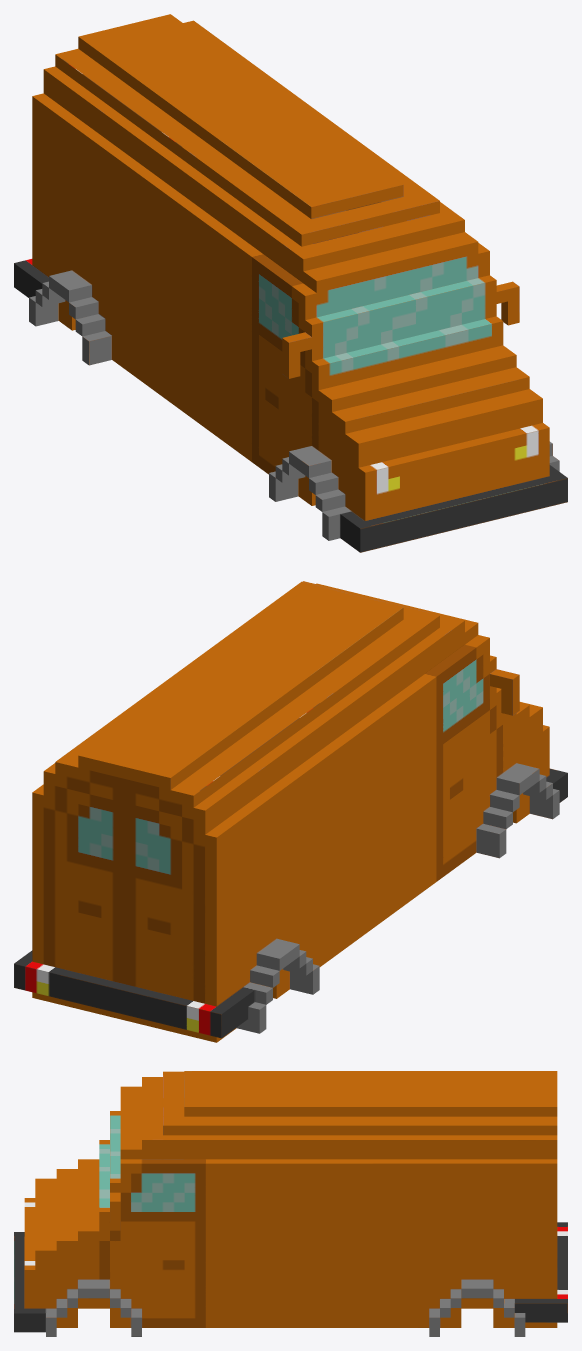
Rendered from Van_3.obj.
3 renders of one model, top to bottom at view 1: azimuth 30°, elevation 25°; view 2: azimuth 150°, elevation 25°; view 3: azimuth 270°, elevation 25°, orthographic. The views are drawn at different scales.
Visible parts, largest first — view 1: Van_3_Van_3.001; view 2: Van_3_Van_3.001; view 3: Van_3_Van_3.001.
Boxes of the visible parts, x1,y1,x2,y2 form: Van_3_Van_3.001: (14, 14, 567, 552); Van_3_Van_3.001: (14, 581, 567, 1042); Van_3_Van_3.001: (14, 1071, 567, 1336).
Size of the model in its own units: 2 by 2.1 by 5.2.
